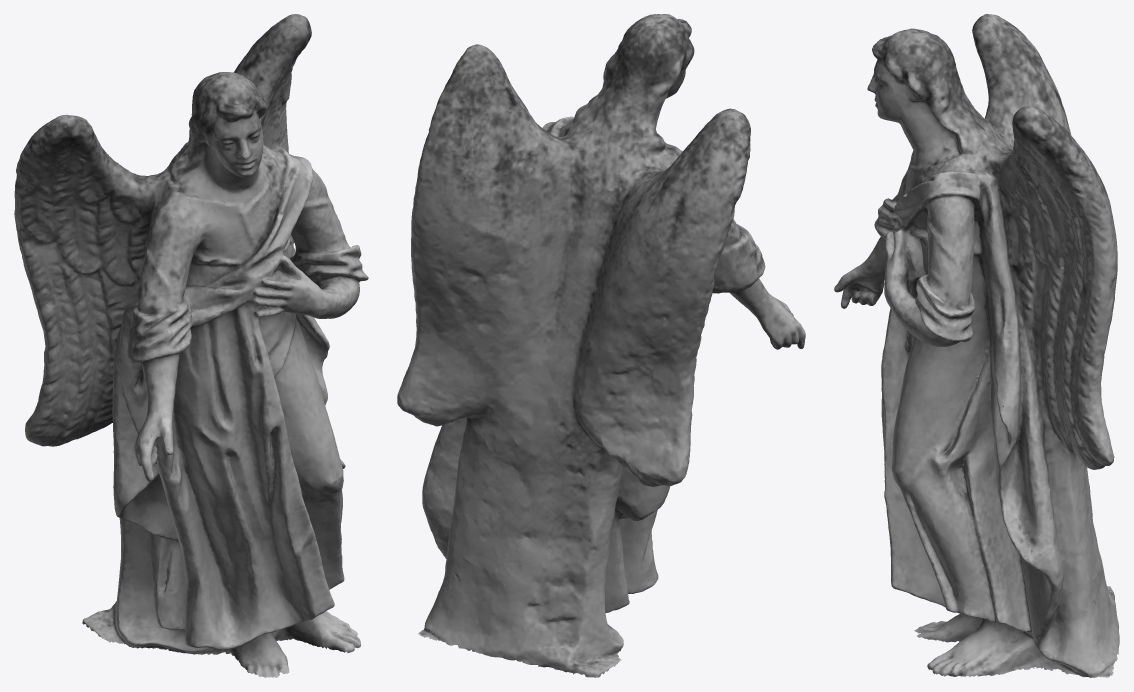
The model's file is angel.glb.
3 views of the same model, side by side, from view 1: azimuth 30°, elevation 25°; view 2: azimuth 150°, elevation 25°; view 3: azimuth 270°, elevation 25° (orthographic). The views are drawn at different scales.
Visible parts, largest first — view 1: LOD0; view 2: LOD0; view 3: LOD0.
Part boxes in pixels (bbox=[...]): LOD0: bbox=[14, 14, 368, 677]; LOD0: bbox=[397, 14, 805, 677]; LOD0: bbox=[834, 14, 1119, 677].
Size of what is drawn, in the model's own units: 1.37 by 2.45 by 1.1.
Materials: 1 (1 with a texture image).
